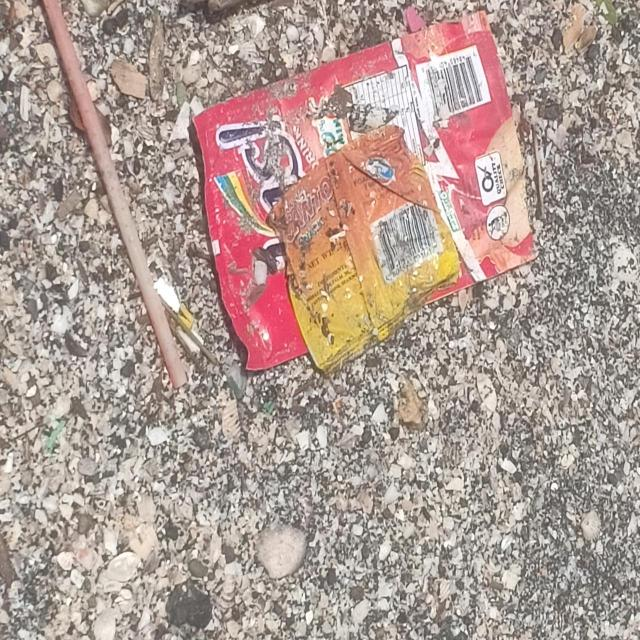plastic_waste: (197, 7, 543, 377), (39, 0, 192, 390)
